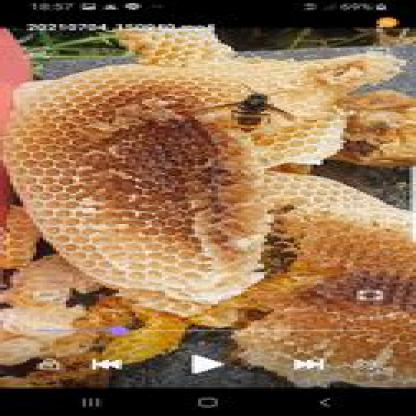Asian Hornet: (194, 83, 300, 141)
